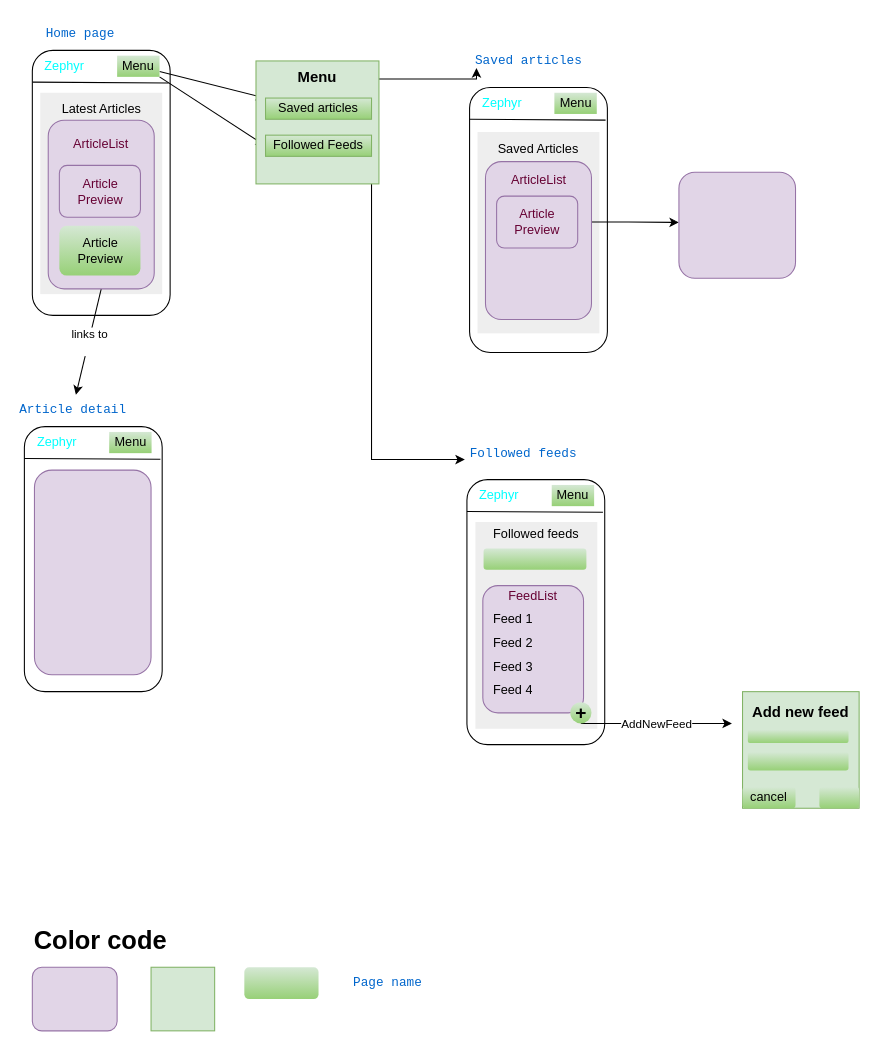
Some shapes in this 882 by 1049 pixel diagram are drawn without their labels. Each missing label, with the centre of its shape:
add: point (839, 797)
Article Preview Title Author Date: point (737, 224)
ArticleDetail Title author, date [img] content keywords: point (92, 572)
buttons / inputs: point (281, 983)
feed name: point (797, 736)
feed url: point (797, 761)
Modules datas: point (74, 998)
Pop-up: point (182, 998)
searchbar: point (534, 558)
